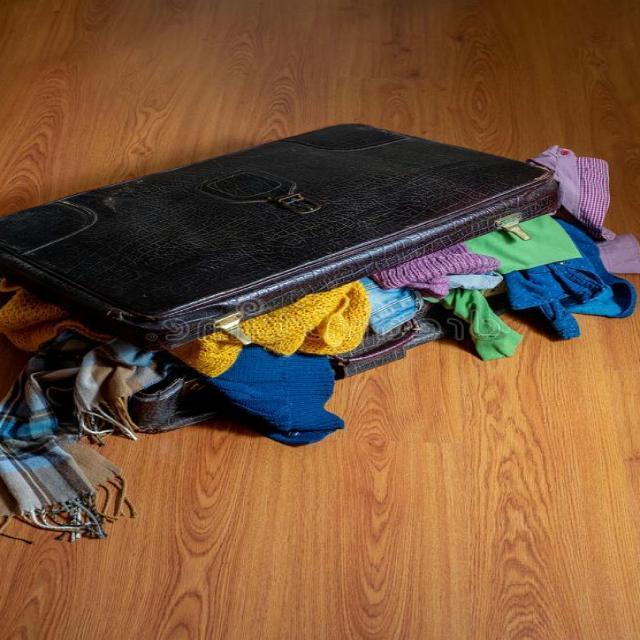clothes: (1, 145, 568, 520)
